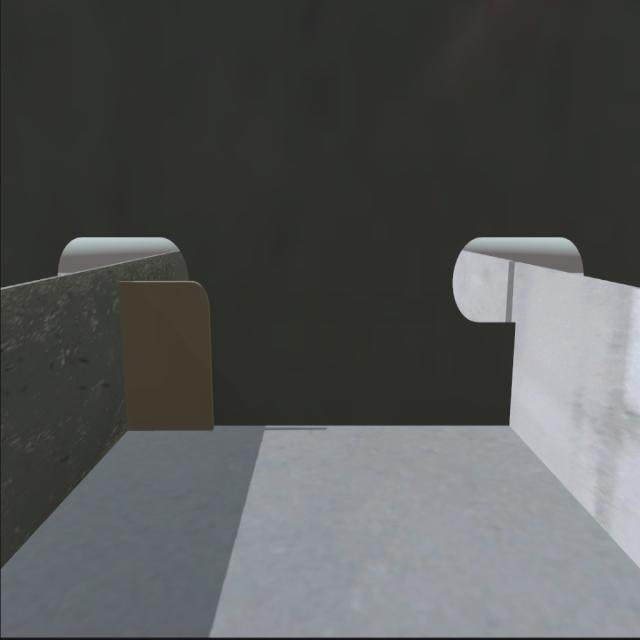fillet_yong_jeop_jang: (121, 420, 520, 436)
longi_yong_jeop_jang: (114, 279, 138, 437), (500, 318, 526, 424)
plate_CP05: (119, 282, 214, 432)
